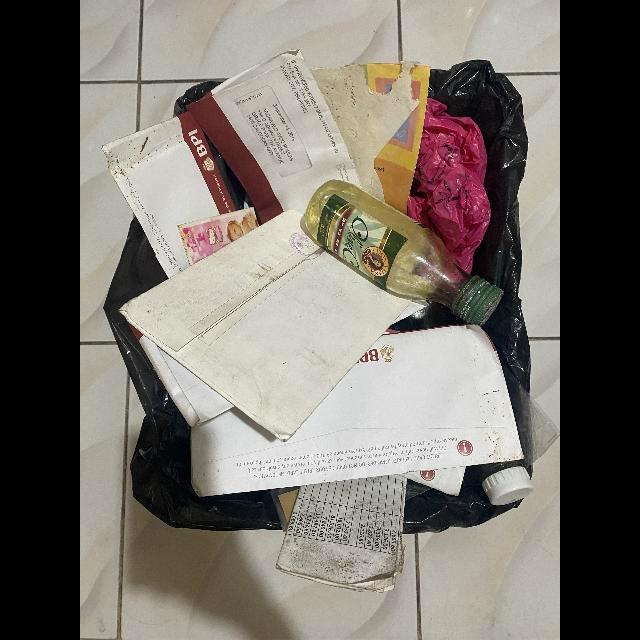glass_bottle: (305, 179, 504, 327)
paper: (119, 208, 416, 443), (191, 323, 524, 497), (186, 49, 363, 224), (101, 110, 237, 279), (275, 474, 407, 594)
plastic_bag: (407, 97, 491, 276)
